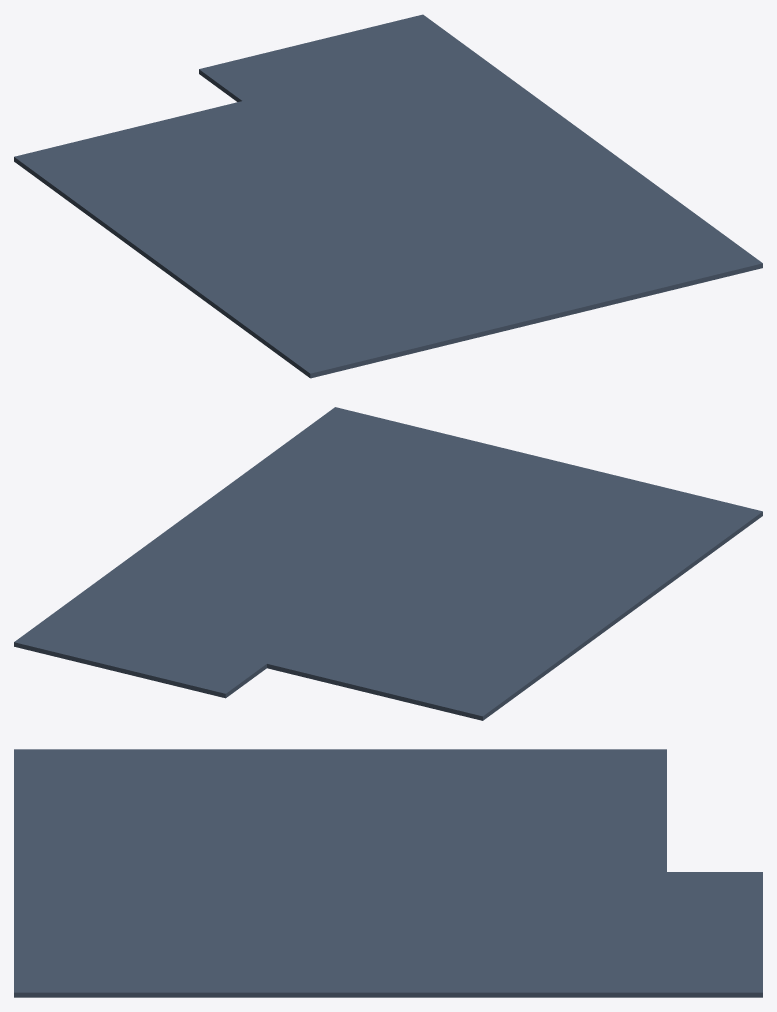
Rendered from floor_geometry.obj.
3 views of the same model, one above another, from view 1: azimuth 30°, elevation 25°; view 2: azimuth 150°, elevation 25°; view 3: azimuth 270°, elevation 25° (orthographic). The views are drawn at different scales.
Visible parts, largest first — view 1: Floor_002_t_old_access_podstanciya_floor, Floor_003_t_old_access_staryy_sluzhebnyy_vestibyul_floor, Floor_001_t_old_access_staraya_lestnica_floor; view 2: Floor_002_t_old_access_podstanciya_floor, Floor_003_t_old_access_staryy_sluzhebnyy_vestibyul_floor, Floor_001_t_old_access_staraya_lestnica_floor; view 3: Floor_002_t_old_access_podstanciya_floor, Floor_003_t_old_access_staryy_sluzhebnyy_vestibyul_floor, Floor_001_t_old_access_staraya_lestnica_floor.
Boxes of the visible parts, x1,y1,x2,y2 form: Floor_002_t_old_access_podstanciya_floor: (190,175,762,378); Floor_003_t_old_access_staryy_sluzhebnyy_vestibyul_floor: (199,14,642,230); Floor_001_t_old_access_staraya_lestnica_floor: (14,101,418,290); Floor_002_t_old_access_podstanciya_floor: (222,407,762,598); Floor_003_t_old_access_staryy_sluzhebnyy_vestibyul_floor: (14,490,433,698); Floor_001_t_old_access_staraya_lestnica_floor: (267,541,649,720); Floor_002_t_old_access_podstanciya_floor: (14,749,277,997); Floor_003_t_old_access_staryy_sluzhebnyy_vestibyul_floor: (277,872,762,997); Floor_001_t_old_access_staraya_lestnica_floor: (277,749,666,871).
Bounding box in the file's own units: 19.81 × 0.2 × 25.77.
